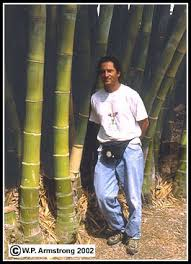bamboo: (15, 1, 81, 229), (146, 57, 184, 194), (89, 7, 187, 54)
